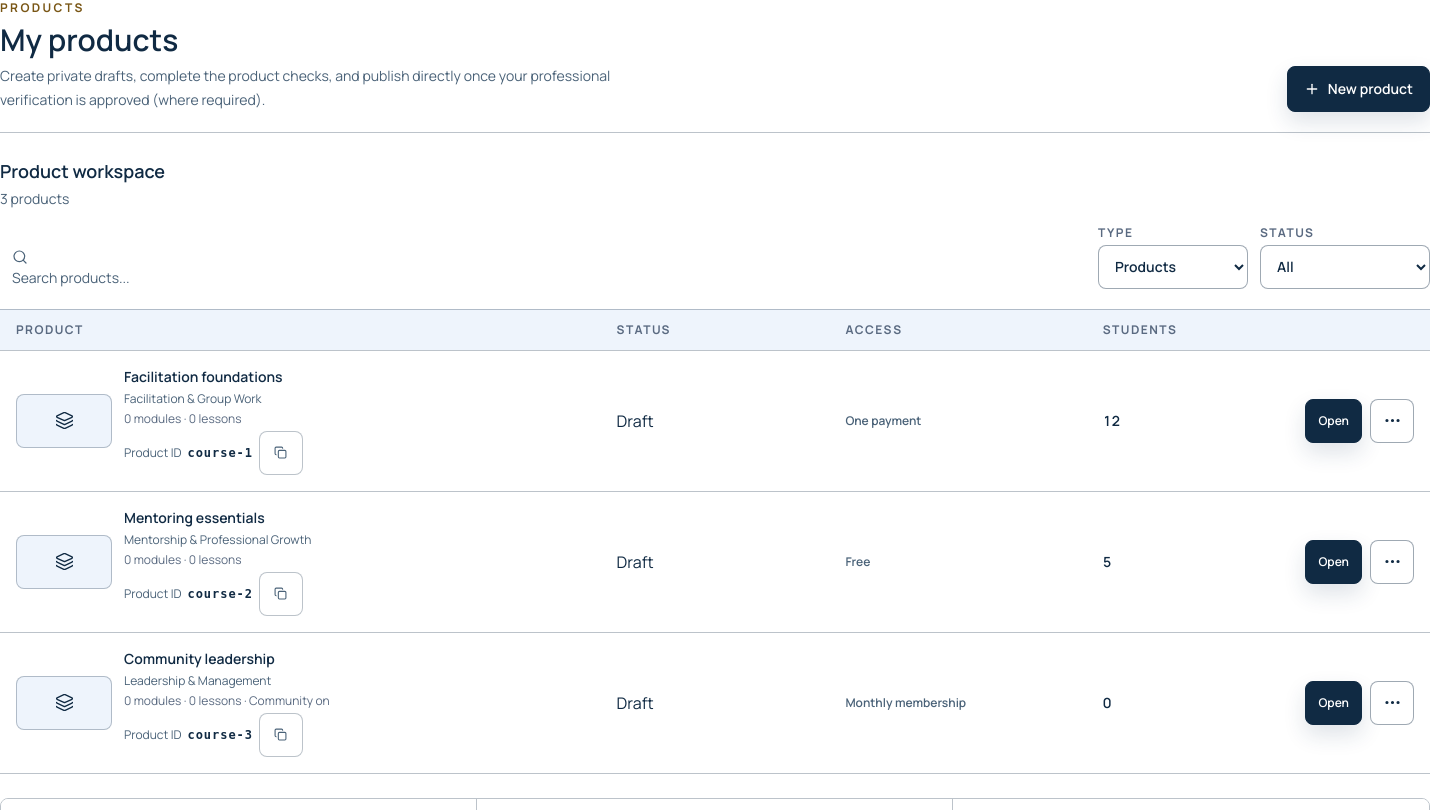
Test case: TeacherCourseStudio — lista de produtos › opens delete confirmation in a dialog without replacing row actions
Step 1. Click the button named "More actions for Facilitation foundations" → (1392, 420), box [1370,398,1414,442]
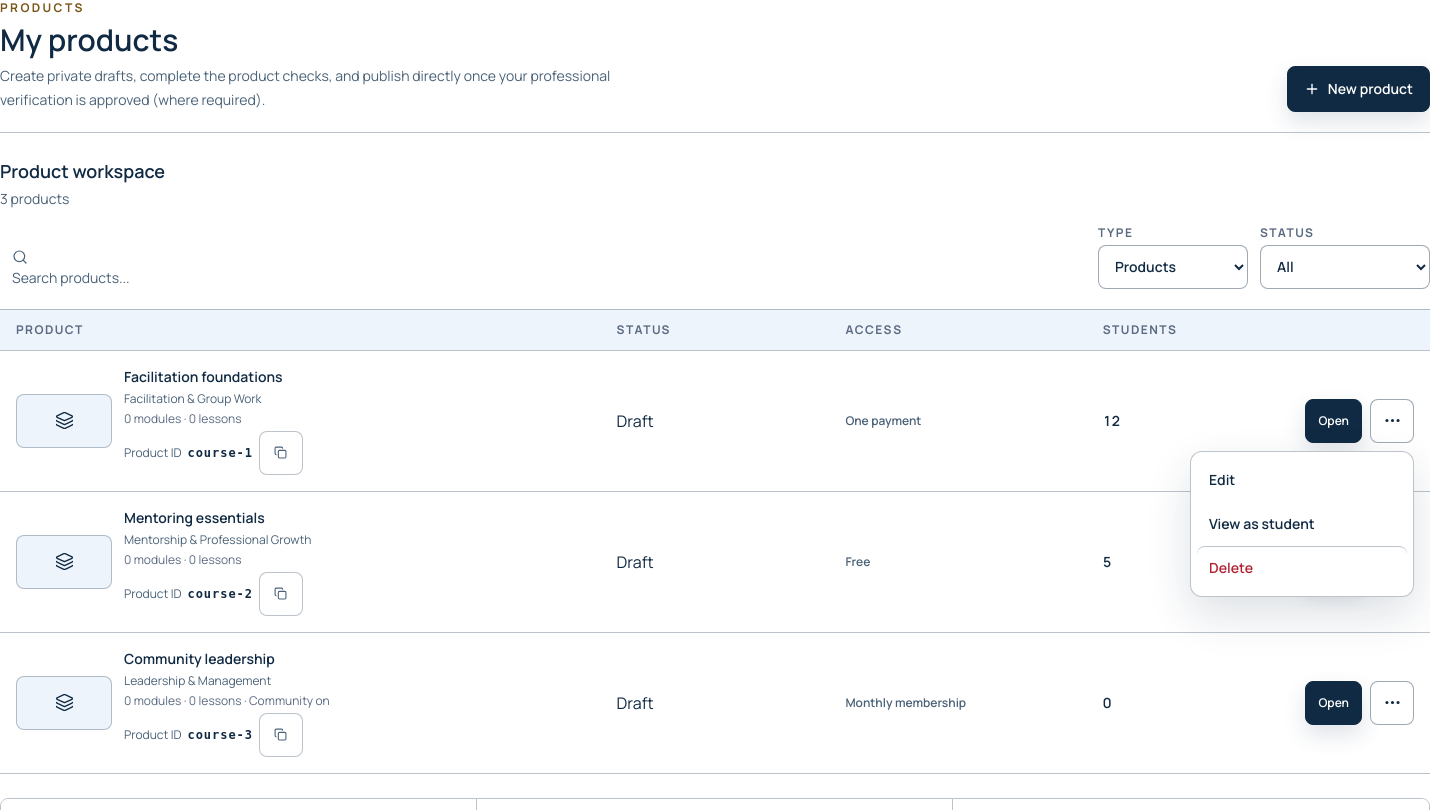
Step 2. Click the menu item "Delete" → (1302, 568), box [1197,546,1407,590]
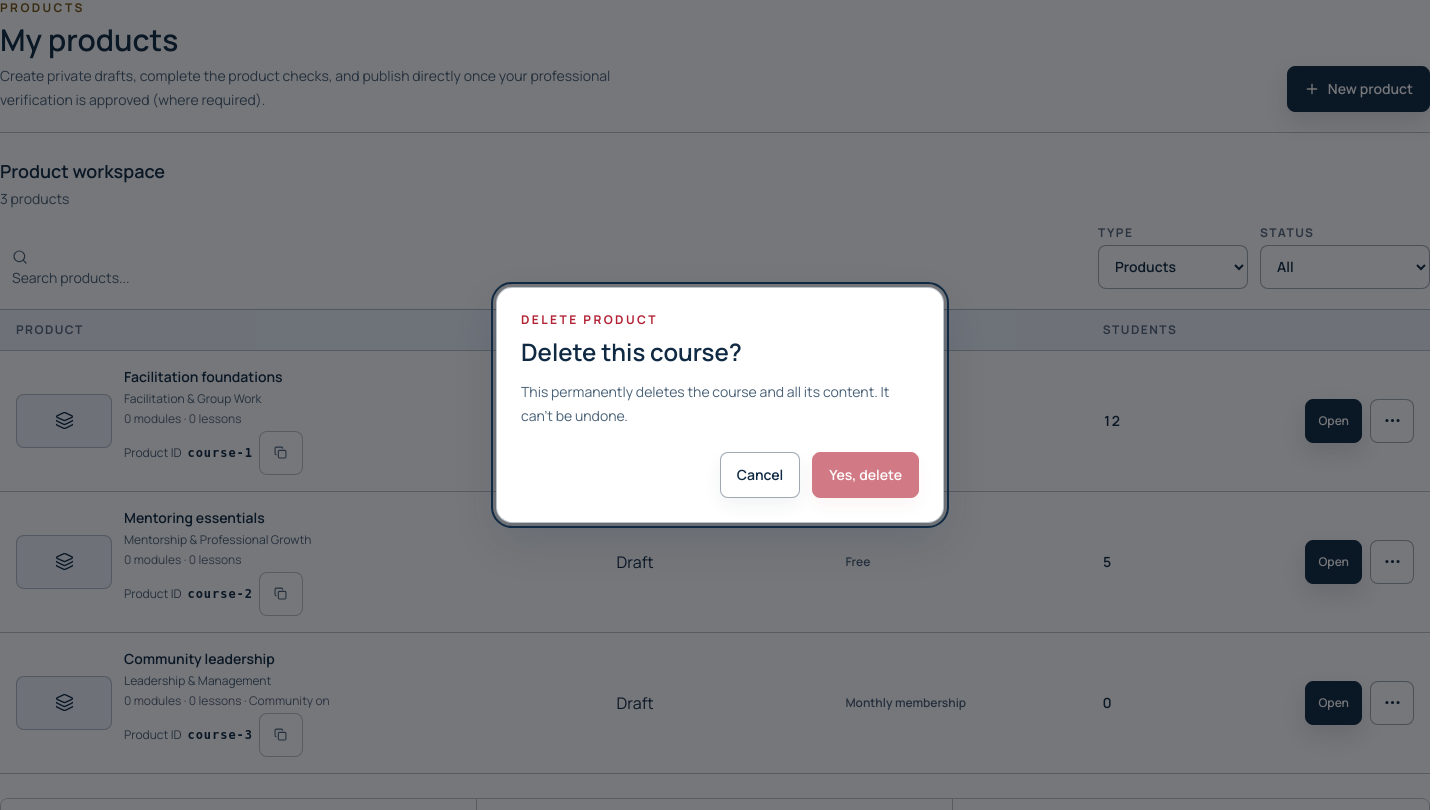
Expected: the link "Open" is shown, [1306,398,1362,442]
Expected: the dialog named "Delete Facilitation foundations" is shown, [496,287,944,523]
Step 3. Press Escape
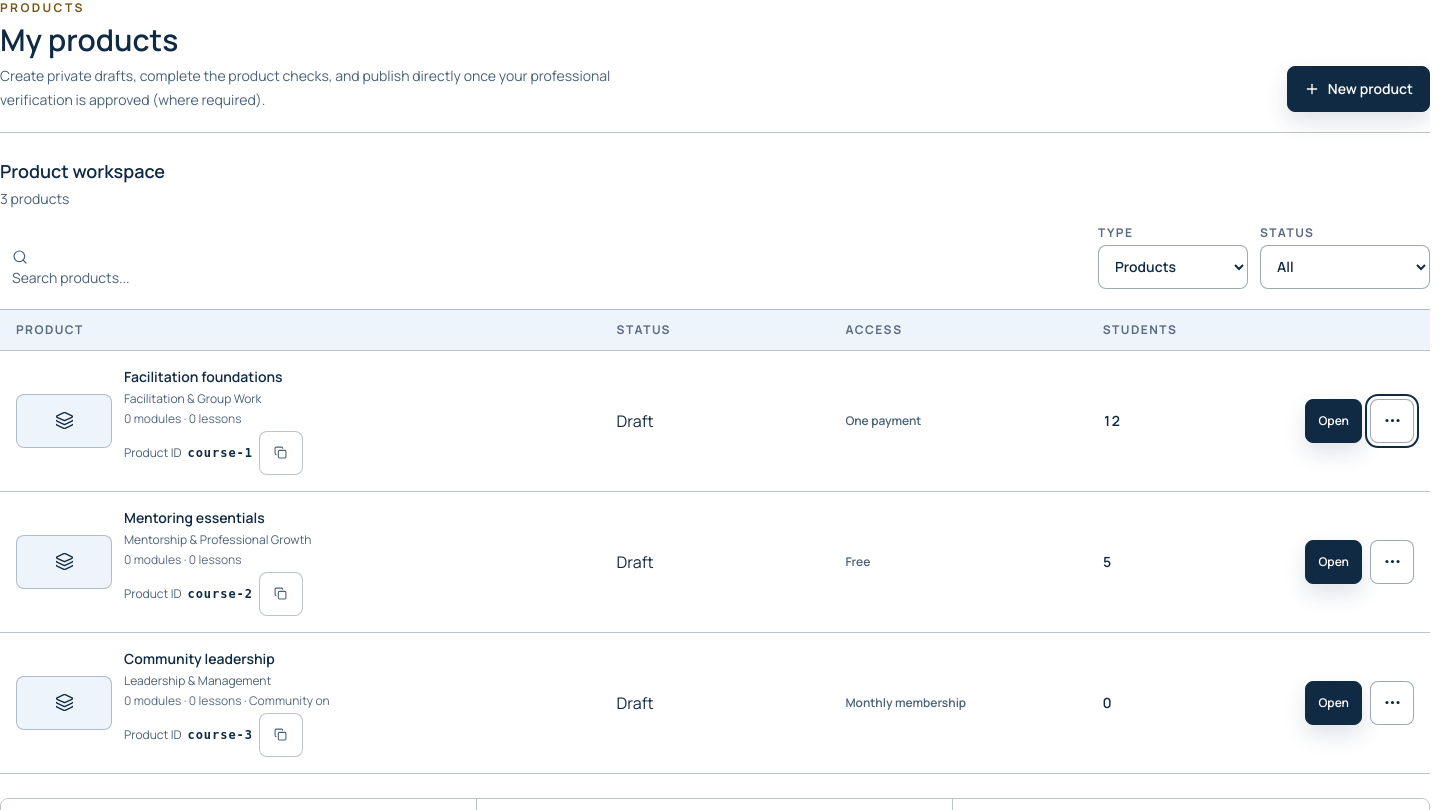
Expected: the dialog is gone
